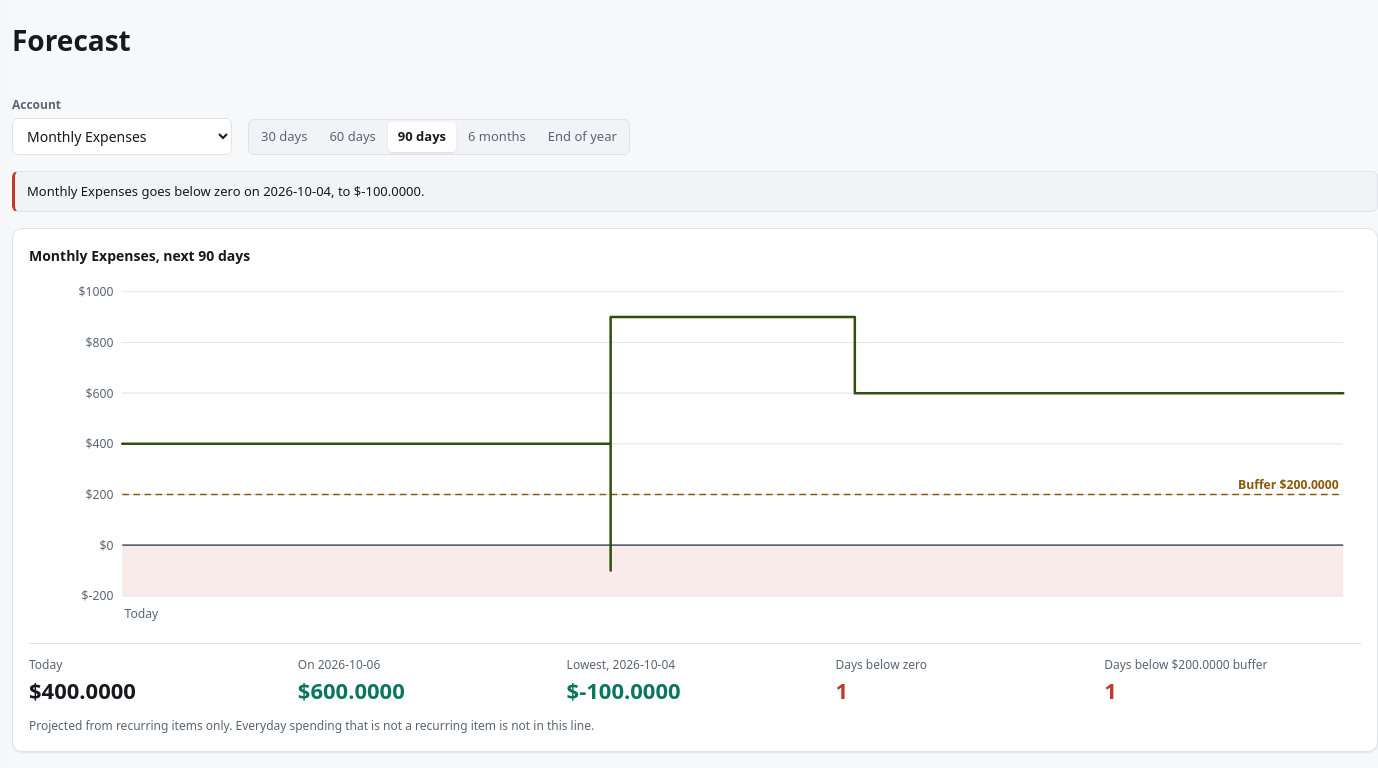
Test: ForecastPage › reads out a day from the keyboard, with its dip and what lands
Expected: the heading "Monthly Expenses, next 90 days" is shown, 29,245 -> 250,266
Focus the picture "$-200 $0 $200 $400 $600 $800 $1000 Buffer $200.0000 Today": (695, 452) 29,274 -> 1361,629
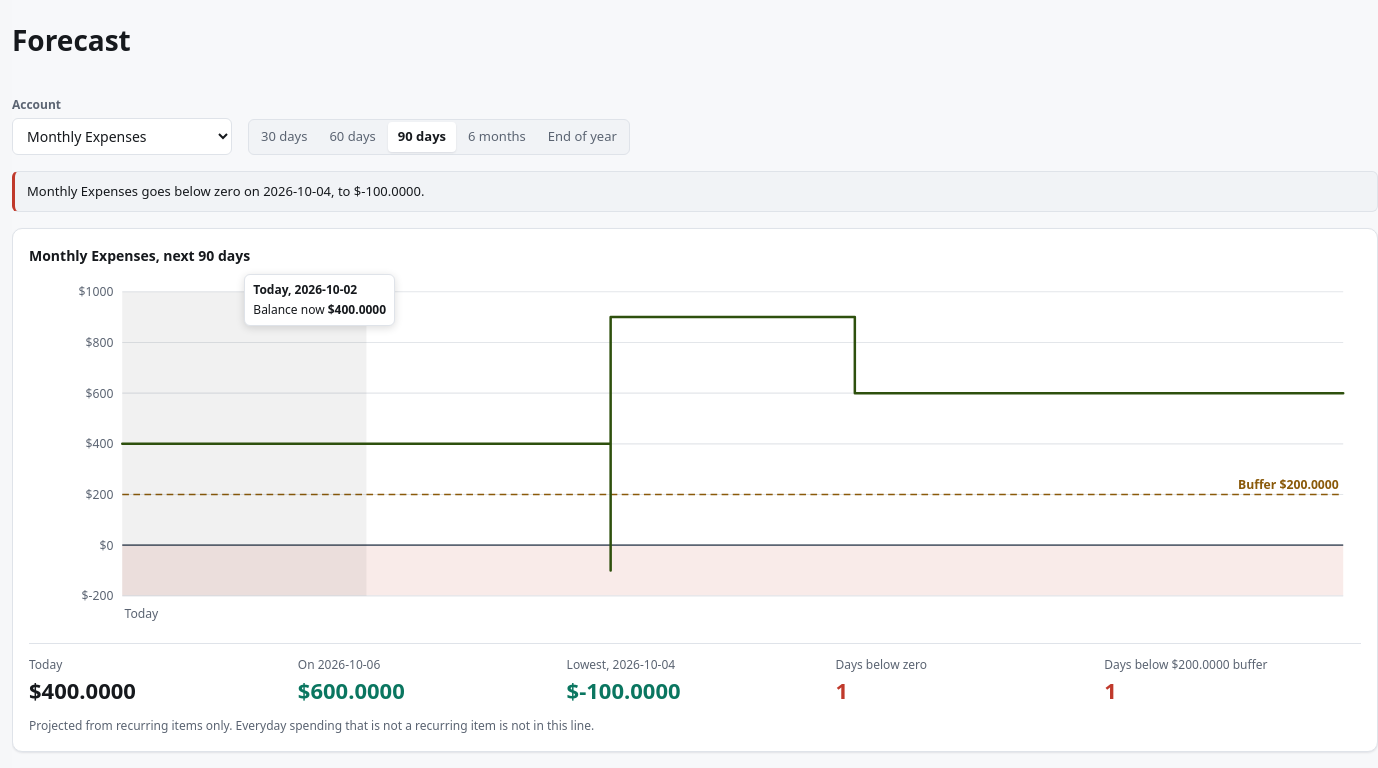
Press ArrowRight in the picture "$-200 $0 $200 $400 $600 $800 $1000 Buffer $200.0000 Today", box 29,274 -> 1361,629
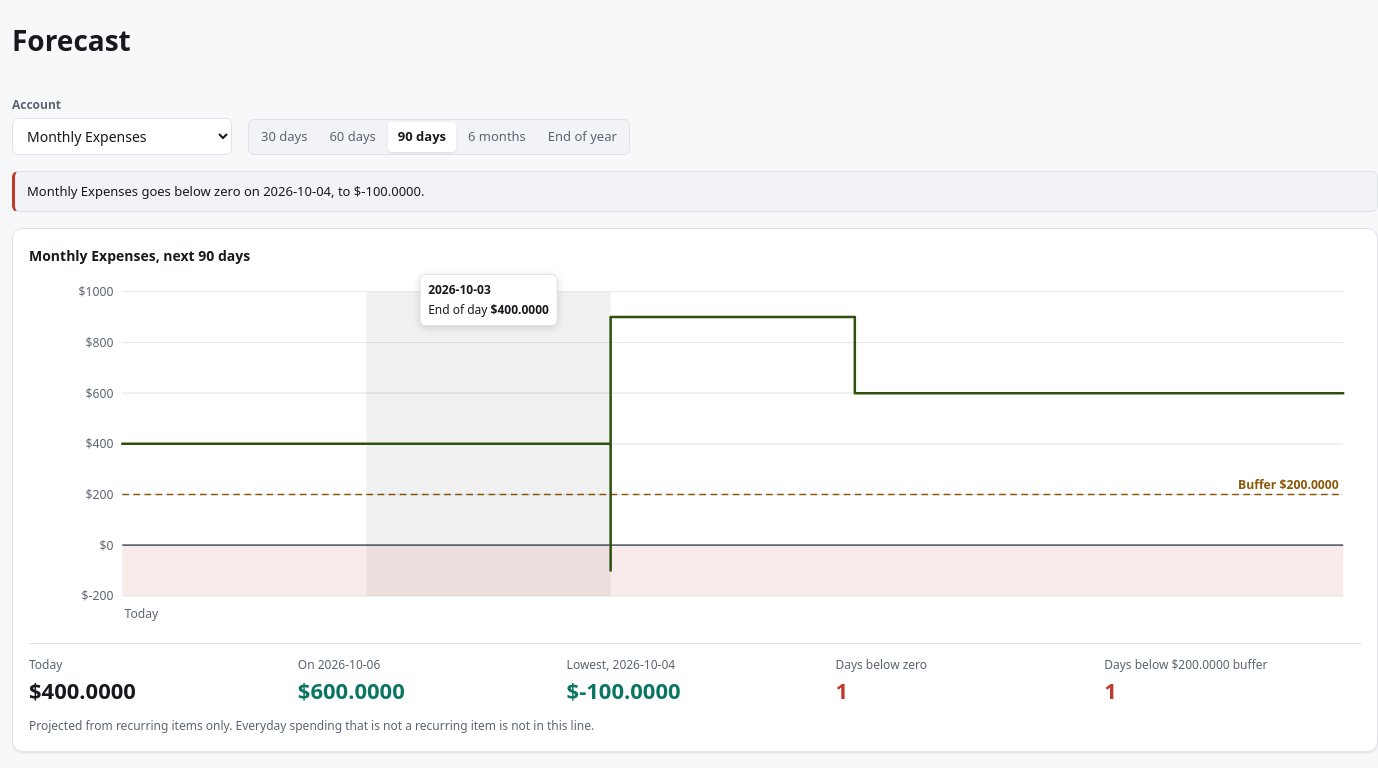
Press ArrowRight in the picture "$-200 $0 $200 $400 $600 $800 $1000 Buffer $200.0000 Today", box 29,274 -> 1361,629
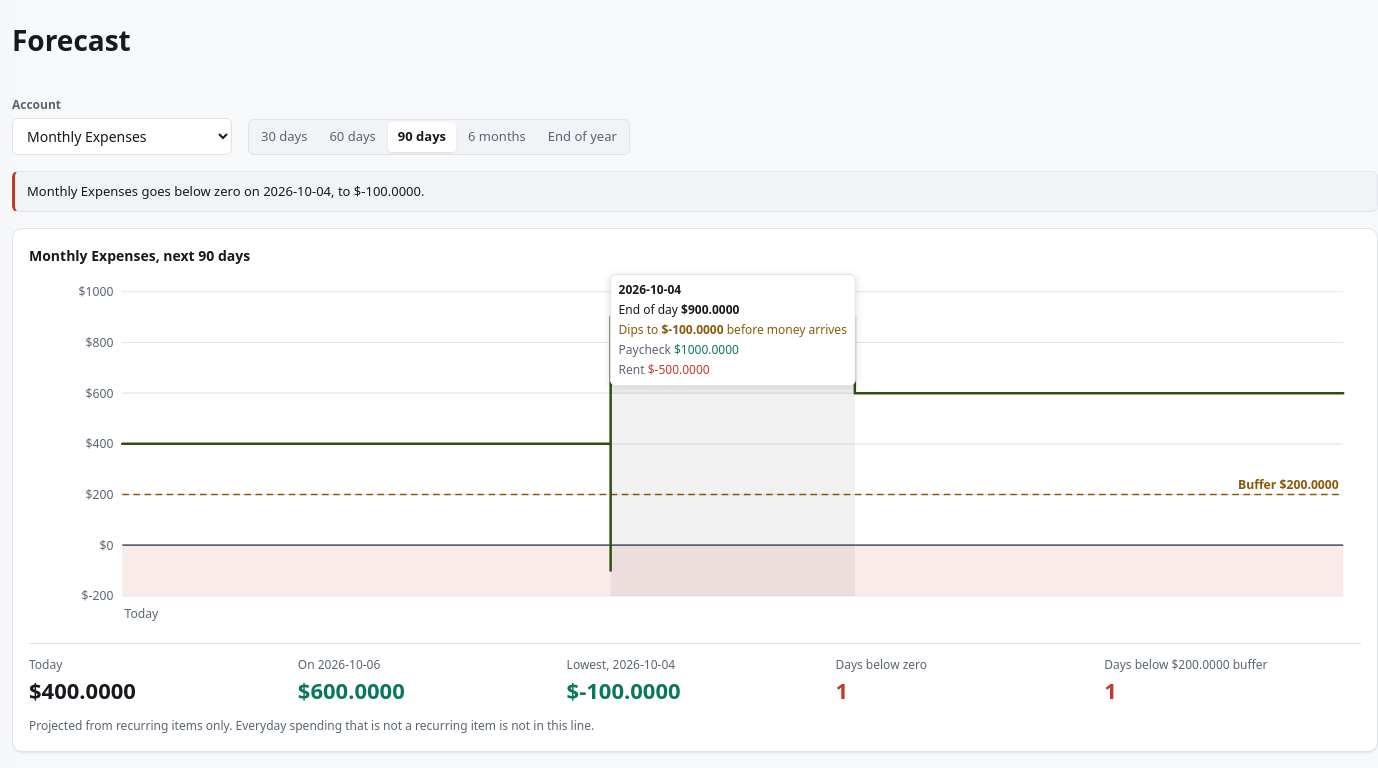
Expected: the element with class "fc-tip" shows "2026-10-04", 619,281 -> 681,298
Expected: the element with class "fc-tip" shows "Dips to $-100.0000", 610,274 -> 856,386
Expected: the element with class "fc-tip" shows "Rent", 619,361 -> 645,378
